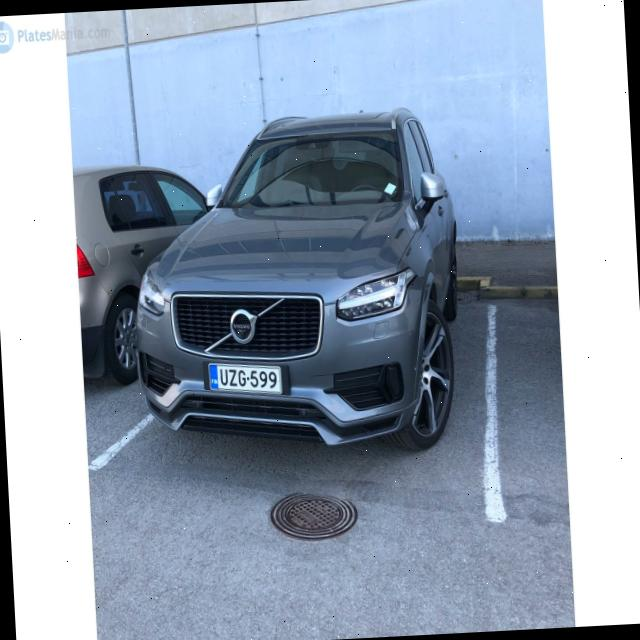License-plate: (205, 358, 286, 399)
